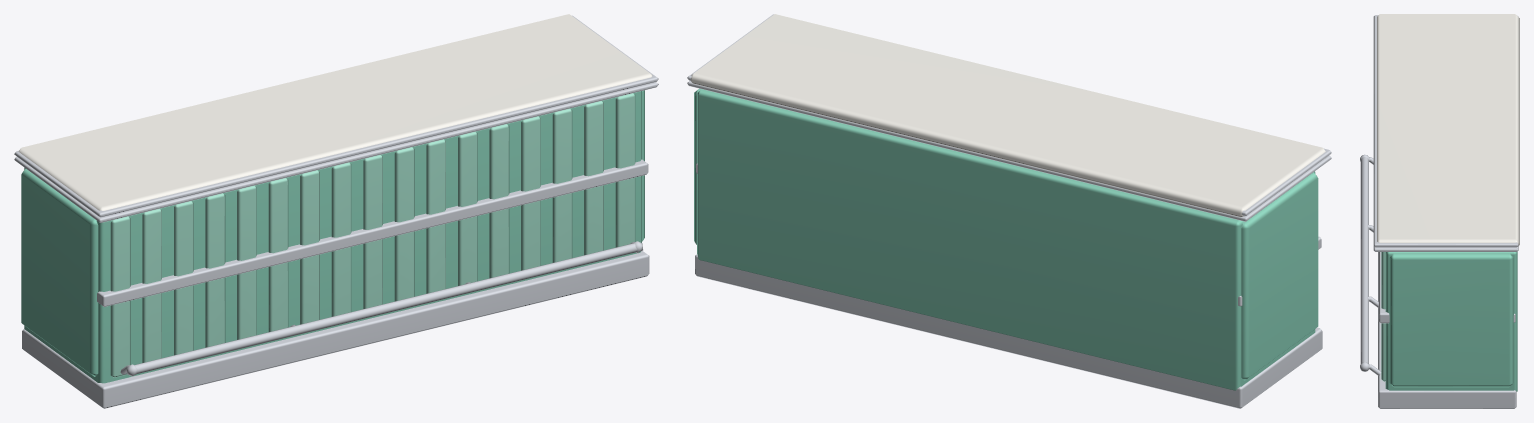
File: furn_counter_diner.glb
3 views of the same model, side by side, from view 1: azimuth 30°, elevation 25°; view 2: azimuth 150°, elevation 25°; view 3: azimuth 270°, elevation 25° (orthographic). The views are drawn at different scales.
Parts seen in each view (by area): view 1: furn_counter_diner_main, furn_counter_diner_gloss; view 2: furn_counter_diner_main, furn_counter_diner_gloss; view 3: furn_counter_diner_main, furn_counter_diner_gloss.
Part boxes in pixels (box(x1,y1,x2,y2)): furn_counter_diner_main: box(18, 14, 652, 383); furn_counter_diner_gloss: box(14, 15, 658, 408); furn_counter_diner_main: box(691, 14, 1325, 390); furn_counter_diner_gloss: box(687, 14, 1331, 408); furn_counter_diner_main: box(1377, 14, 1519, 391); furn_counter_diner_gloss: box(1360, 15, 1518, 408).
Bounding box in the file's own units: 2.88 × 1 × 0.8475.
